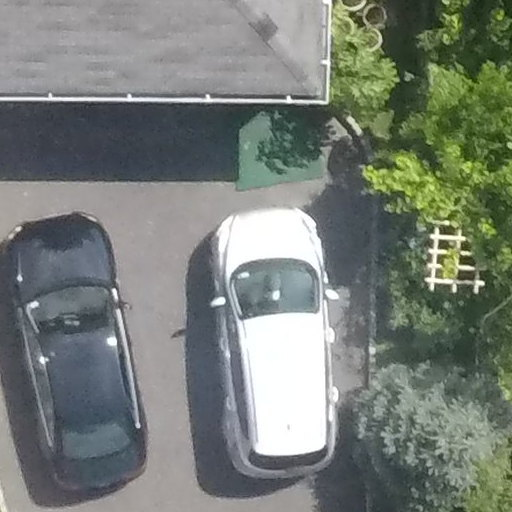car: (1, 198, 152, 510), (190, 206, 354, 492)
container: (359, 1, 395, 30), (354, 26, 388, 55)
